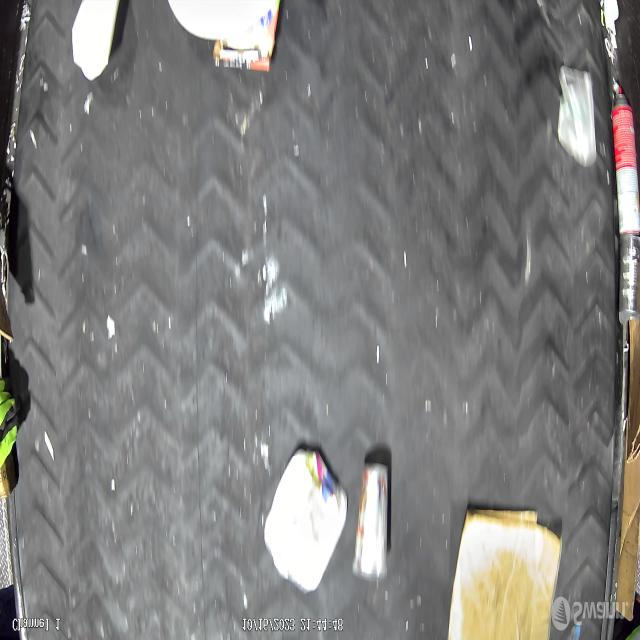can: (611, 86, 640, 234), (618, 233, 640, 323)
